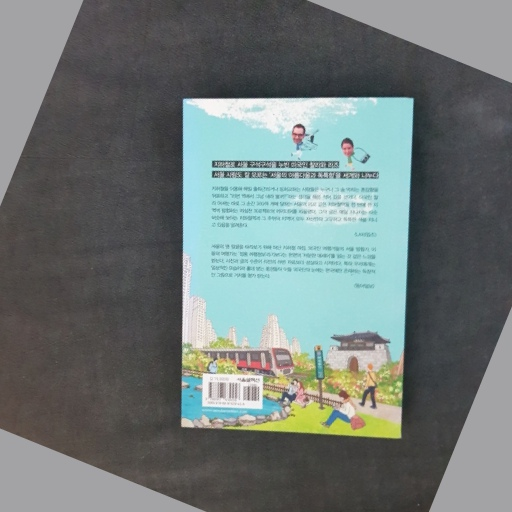Paper_0: (174, 91, 419, 449)
